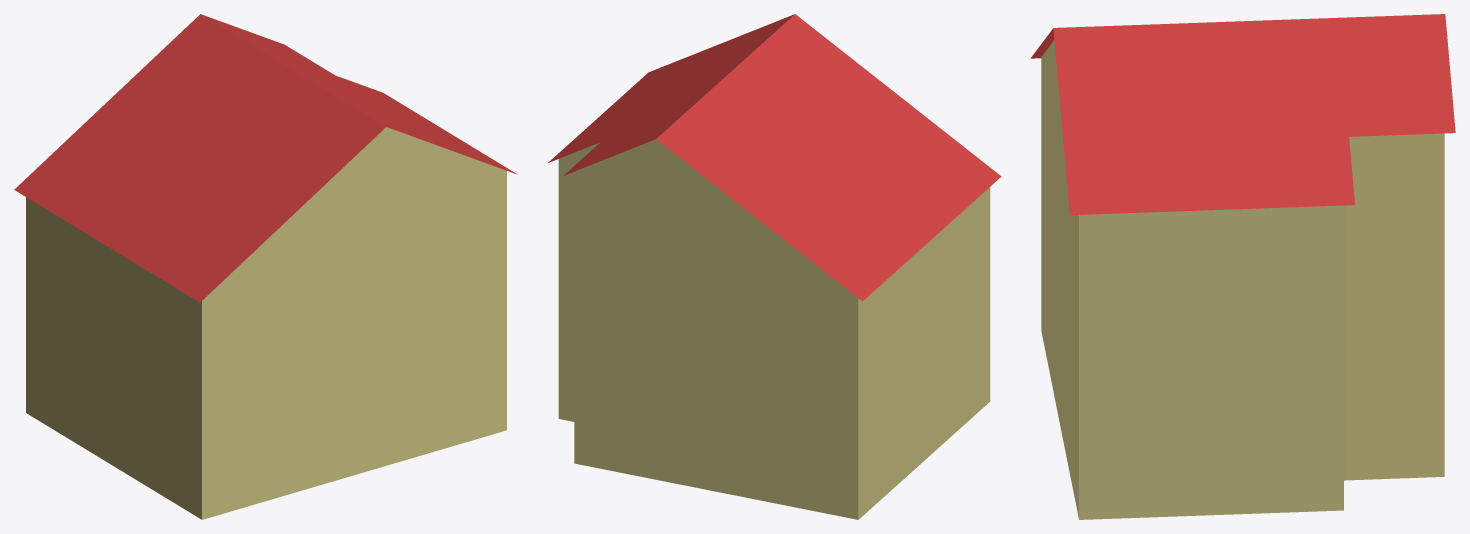
The picture shows the model from 3 angles, left to right: view 1: azimuth 30°, elevation 25°; view 2: azimuth 150°, elevation 25°; view 3: azimuth 270°, elevation 25°; orthographic projection. The views are drawn at different scales.
Bounding box in the file's own units: 12.26 × 10.42 × 11.2.
